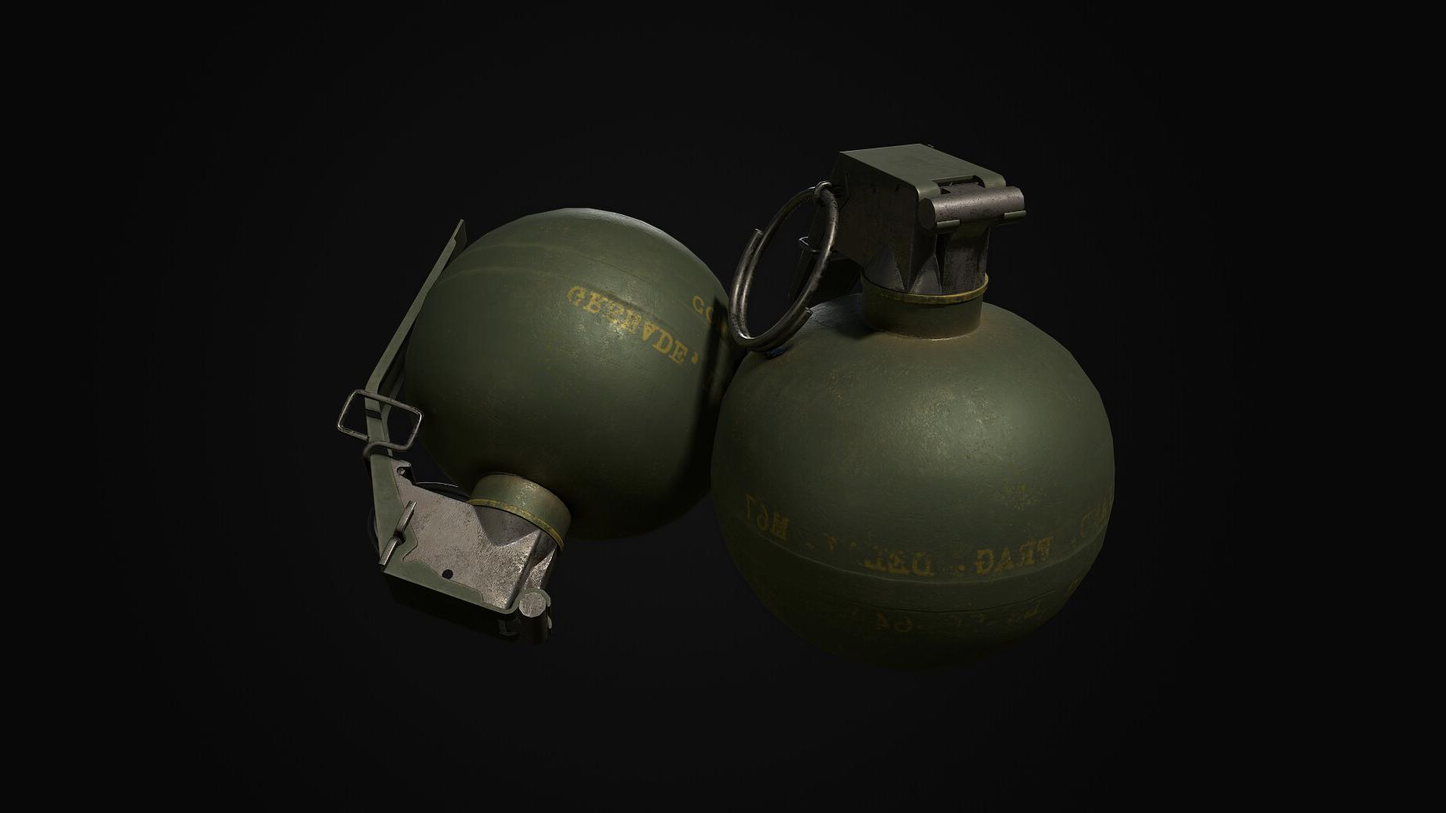Grenade: (706, 137, 1119, 664), (332, 202, 743, 648)
